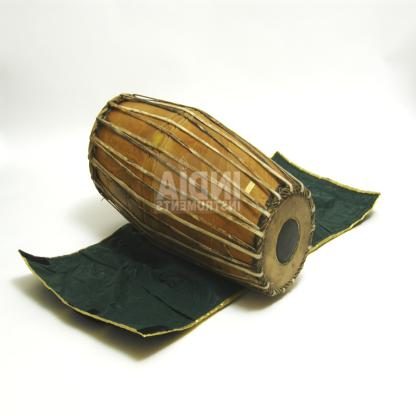Mridangam: (78, 75, 320, 307)
